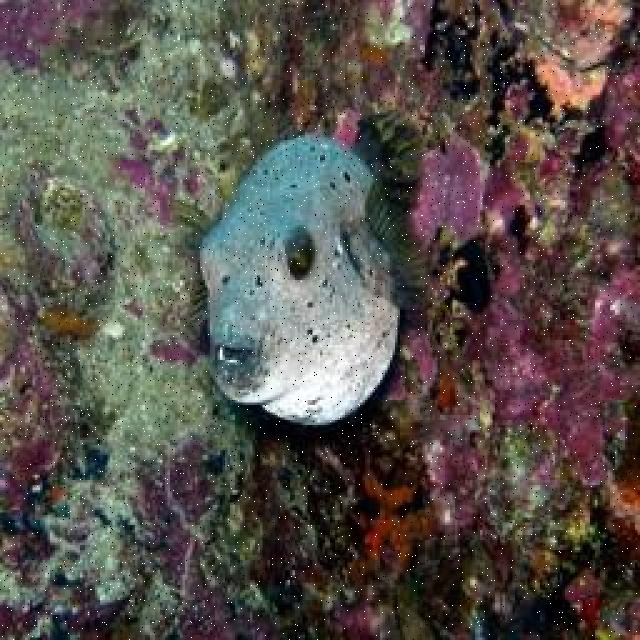fish: (172, 102, 428, 427)
reefs: (449, 164, 638, 488), (338, 108, 485, 249)
